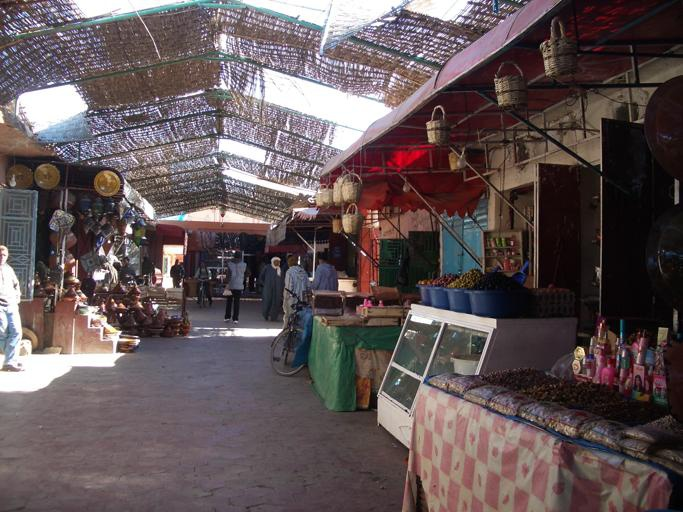non-vehicle: (268, 284, 321, 376), (195, 276, 212, 308)
